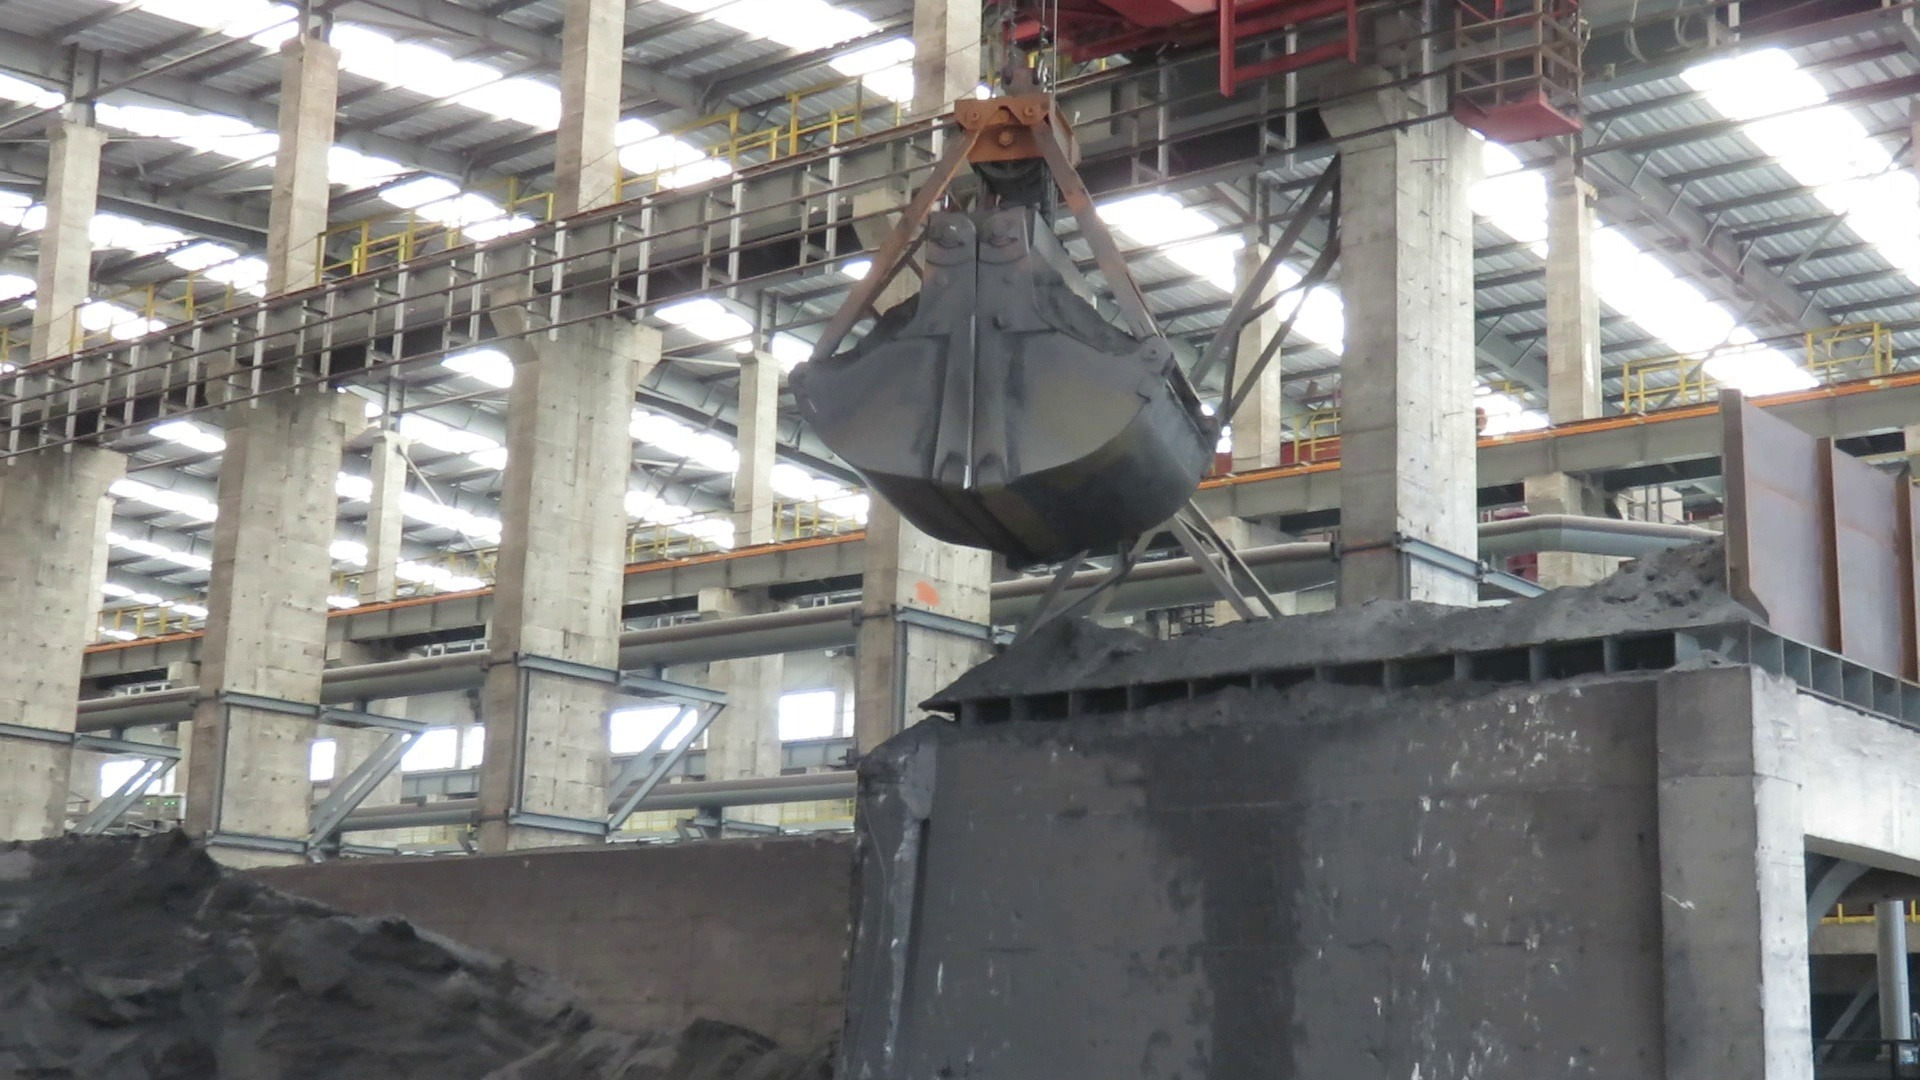grab: (783, 57, 1222, 553)
